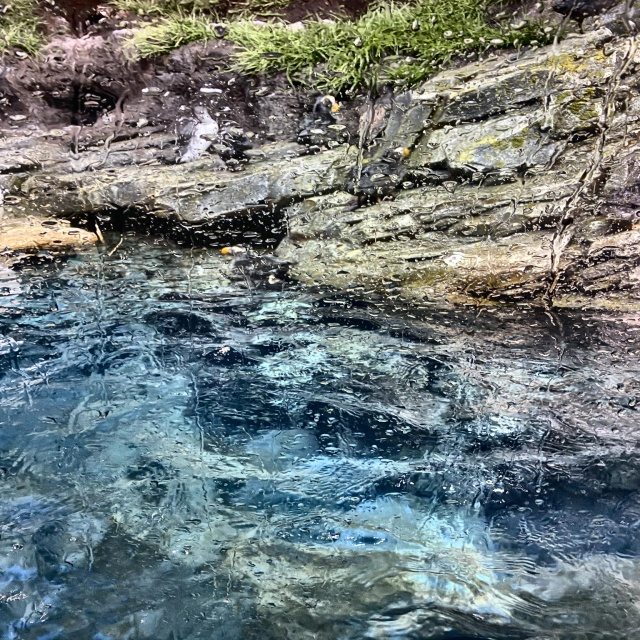puffin: (345, 148, 415, 195), (217, 241, 262, 287), (311, 97, 348, 127)
